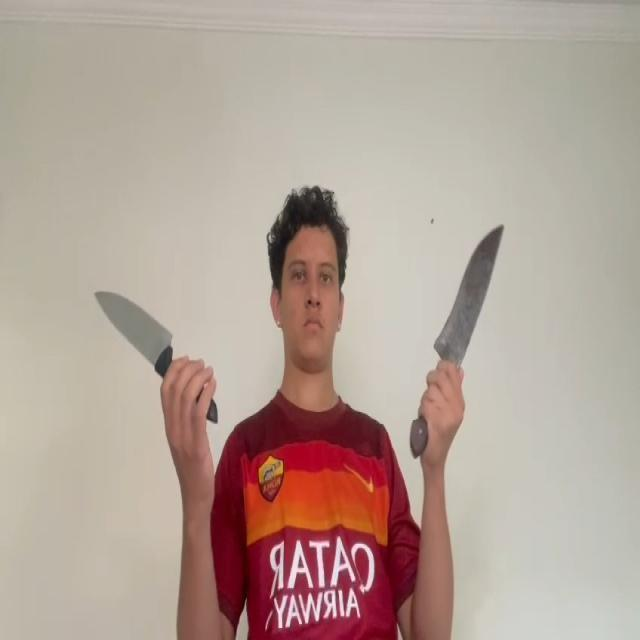knife: (432, 225, 504, 358), (94, 287, 173, 361)
